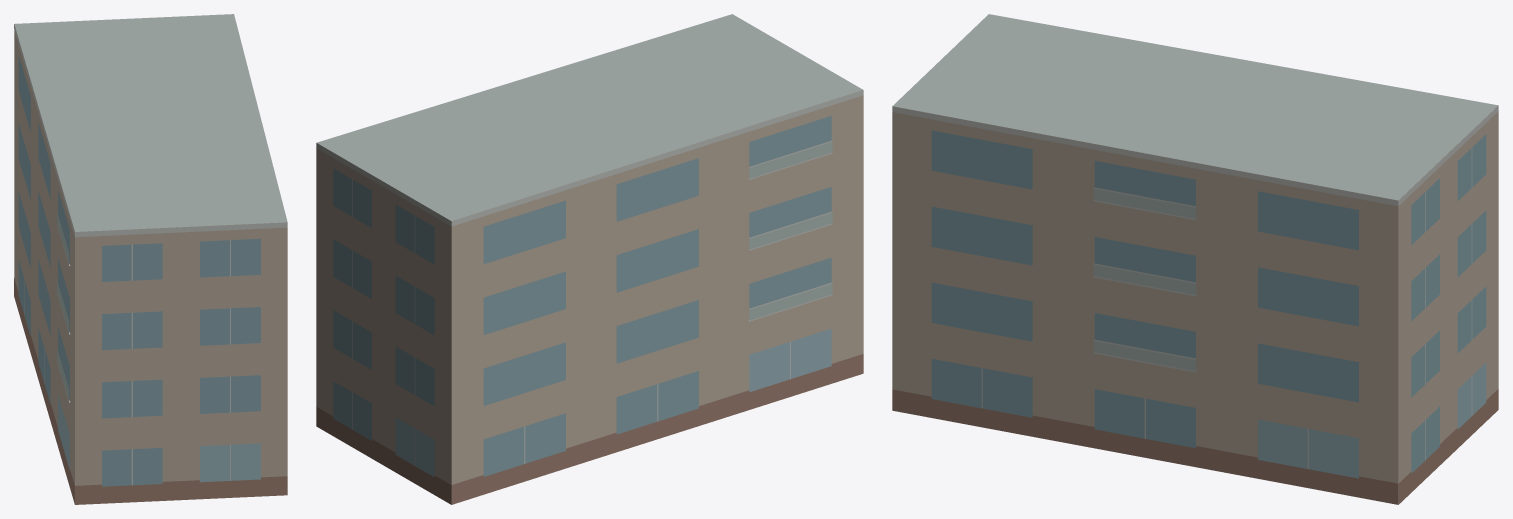
File: survey-upis-32530433.glb
3 renders of one model, left to right at view 1: azimuth 30°, elevation 25°; view 2: azimuth 150°, elevation 25°; view 3: azimuth 270°, elevation 25°, orthographic. The views are drawn at different scales.
Parts seen in each view (by area): view 1: survey-upis-32530433.tmp; view 2: survey-upis-32530433.tmp; view 3: survey-upis-32530433.tmp.
Boxes of the visible parts, x1,y1,x2,y2 form: survey-upis-32530433.tmp: (14, 14, 287, 504); survey-upis-32530433.tmp: (316, 14, 863, 504); survey-upis-32530433.tmp: (892, 14, 1498, 504).
Bounding box in the file's own units: 16.83 × 12.8 × 23.12.
